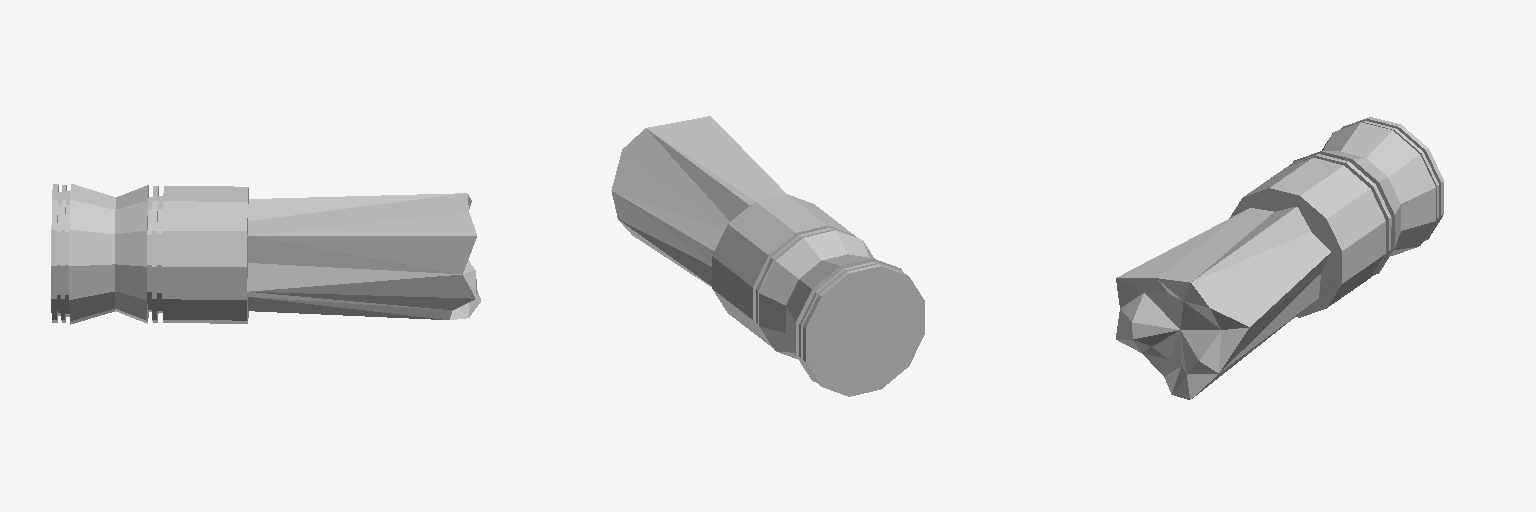
The model's file is piliersol2.obj.
3 views of the same model, side by side, from view 1: azimuth 30°, elevation 25°; view 2: azimuth 150°, elevation 25°; view 3: azimuth 270°, elevation 25° (orthographic).
Size of the model in its own units: 0.8596 by 0.2851 by 0.6761.